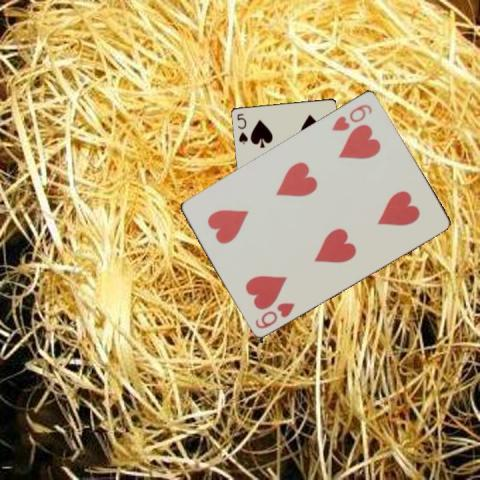5s: (234, 110, 249, 145)
6h: (329, 100, 374, 132), (252, 299, 297, 330)
